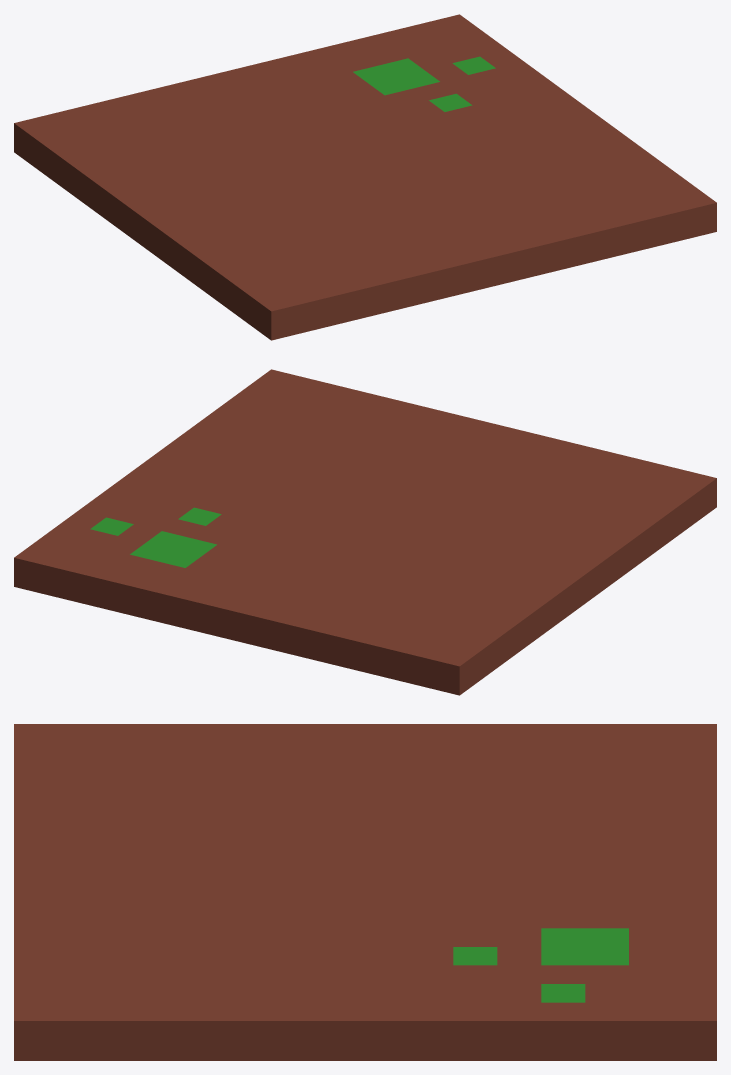
Rendered from floor2.obj.
3 renders of one model, top to bottom at view 1: azimuth 30°, elevation 25°; view 2: azimuth 150°, elevation 25°; view 3: azimuth 270°, elevation 25°, orthographic. The views are drawn at different scales.
Bounding box in the file's own units: 16 × 1 × 16.
1 material, 1 textured.
